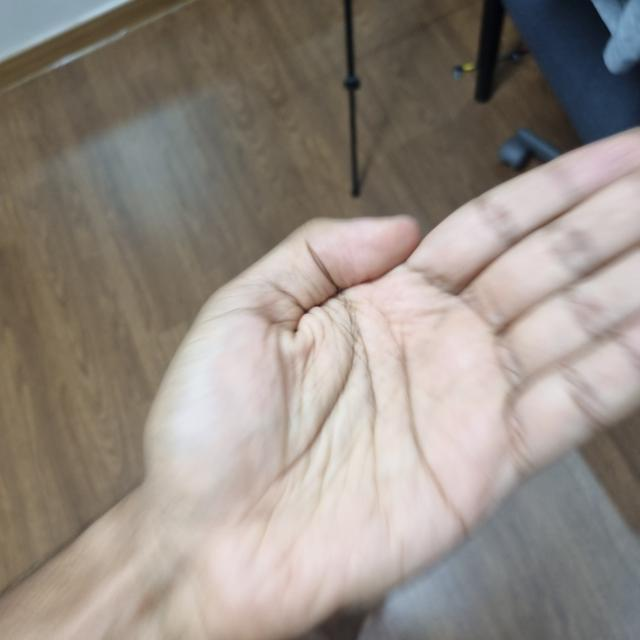Paper: (149, 122, 639, 637)
